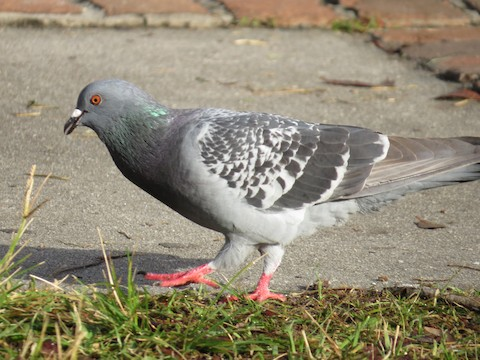pigeon: (59, 70, 468, 313)
